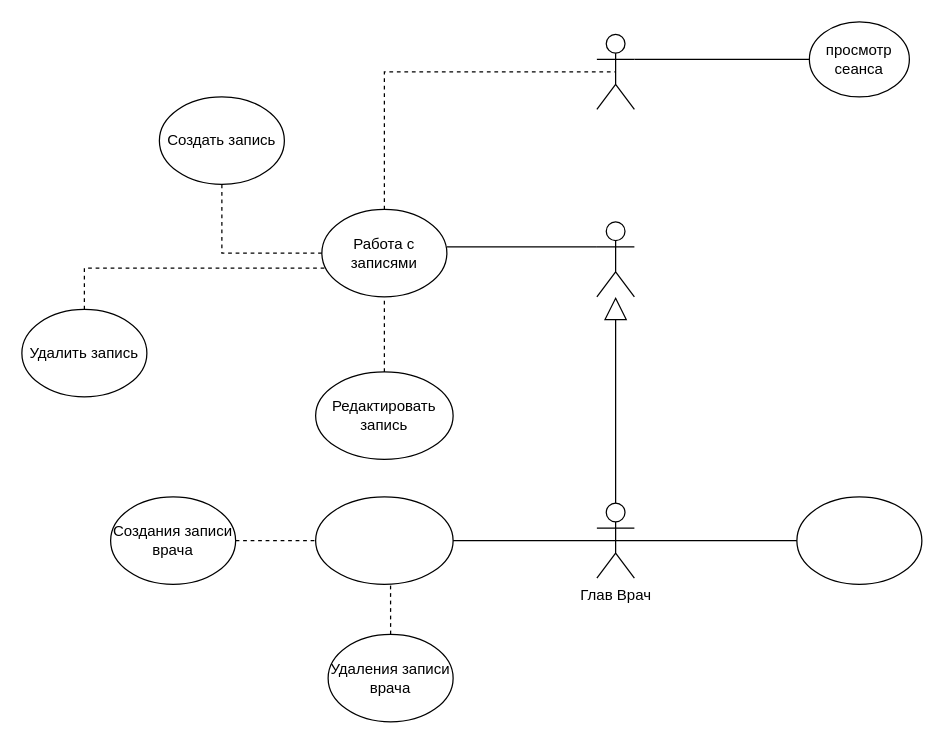
The diagram is 944 pixels wide and 744 high, and some of its shapes have lost their labels. Here are the shapes that lost their labels. From the top down, the centre of each, then its label:
At (615,71): "Зарегистрированный пользователь".
At (615,259): "Менеджер".
At (383,540): "Работа с персоналом".
At (859,540): "Выдача премий".
